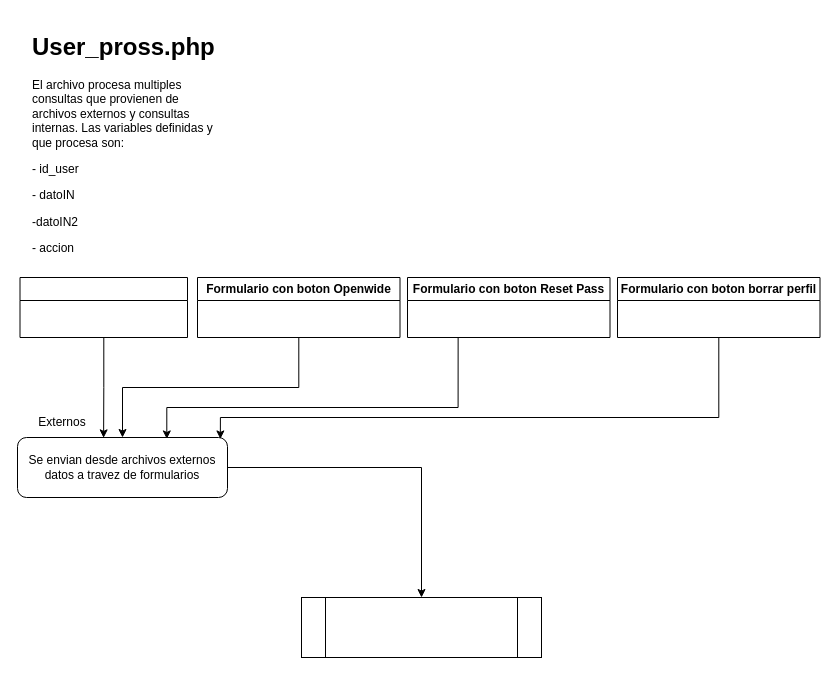
Image size: 838x675. Some labels were removed from this diagram. Here are the shapes that lost their labels. From the top down, the centre of each, then its label:
point (103, 307): Formulario con boton login
point (421, 627): Server Request POST accion, datoIN, datoIN2, id_user
